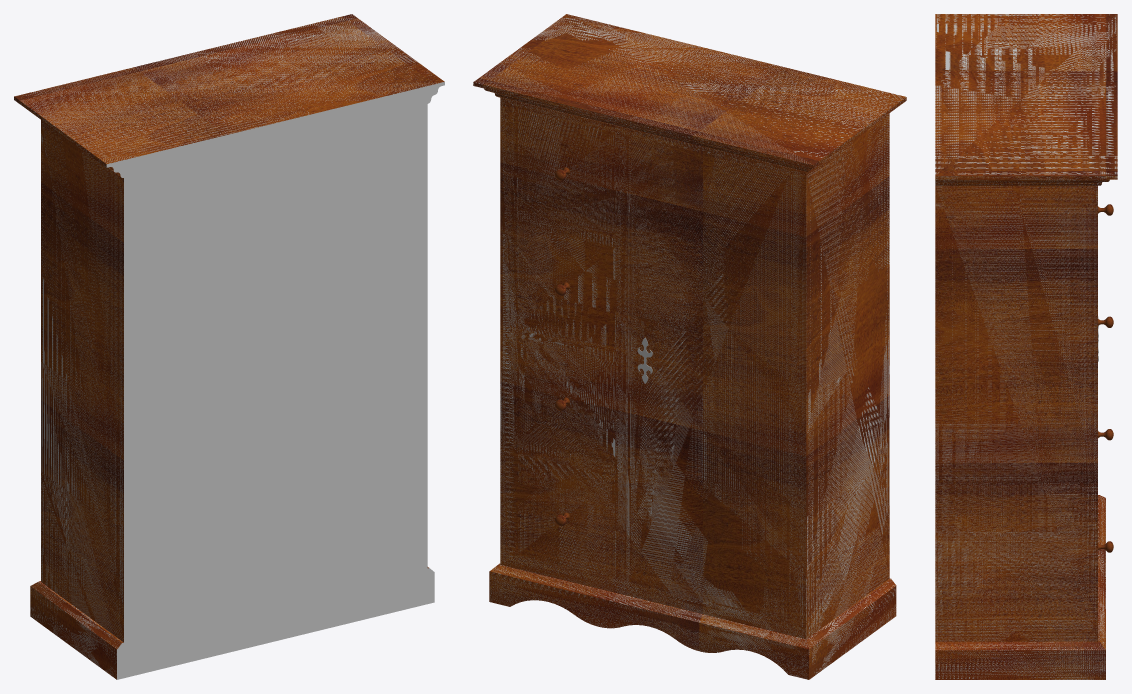
3 renders of one model, left to right at view 1: azimuth 30°, elevation 25°; view 2: azimuth 150°, elevation 25°; view 3: azimuth 270°, elevation 25°, orthographic. The views are drawn at different scales.
Visible parts, largest first — view 1: mesh4_mesh4-geometry; view 2: mesh4_mesh4-geometry; view 3: mesh4_mesh4-geometry, mesh1_mesh1-geometry.
Part boxes in pixels (box(x1,y1,x2,y2)): mesh4_mesh4-geometry: box(14, 14, 444, 679); mesh4_mesh4-geometry: box(473, 14, 906, 679); mesh4_mesh4-geometry: box(935, 14, 1117, 679); mesh1_mesh1-geometry: box(1098, 204, 1113, 552).
Size of the model in its own units: 0.5447 by 0.7978 by 0.2586.
